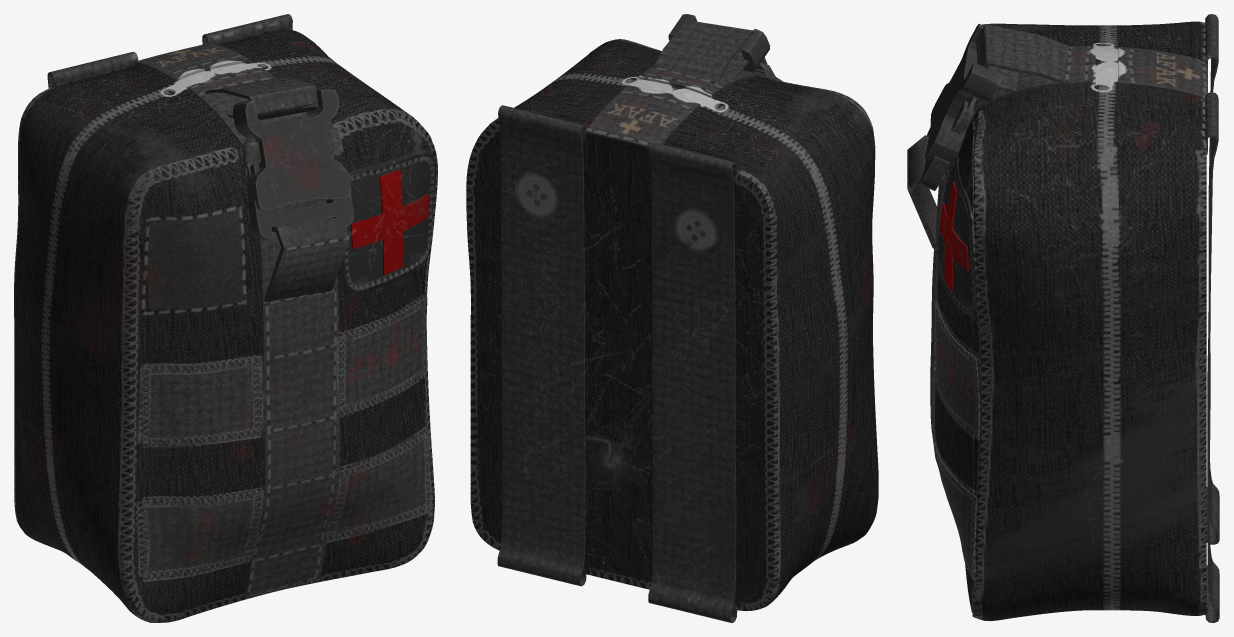
The model's file is ifak.glb.
3 renders of one model, left to right at view 1: azimuth 30°, elevation 25°; view 2: azimuth 150°, elevation 25°; view 3: azimuth 270°, elevation 25°, orthographic. The views are drawn at different scales.
Visible parts, largest first — view 1: afak; view 2: afak; view 3: afak.
Part boxes in pixels (x1,y1,x2,y2): afak: (14, 14, 437, 622); afak: (466, 14, 878, 622); afak: (907, 14, 1219, 622).
Size of the model in its own units: 0.4897 by 0.6792 by 0.3633.
1 material, 1 textured.
